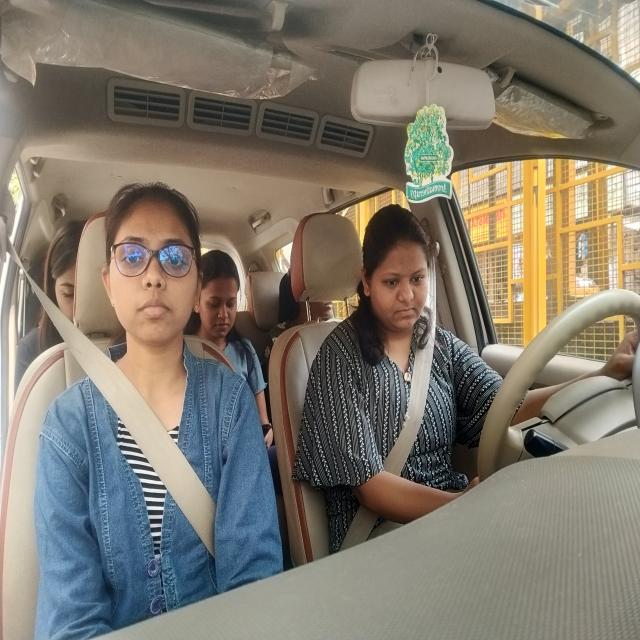person: (98, 171, 203, 360), (350, 202, 444, 346), (191, 233, 248, 363), (40, 220, 81, 349)
